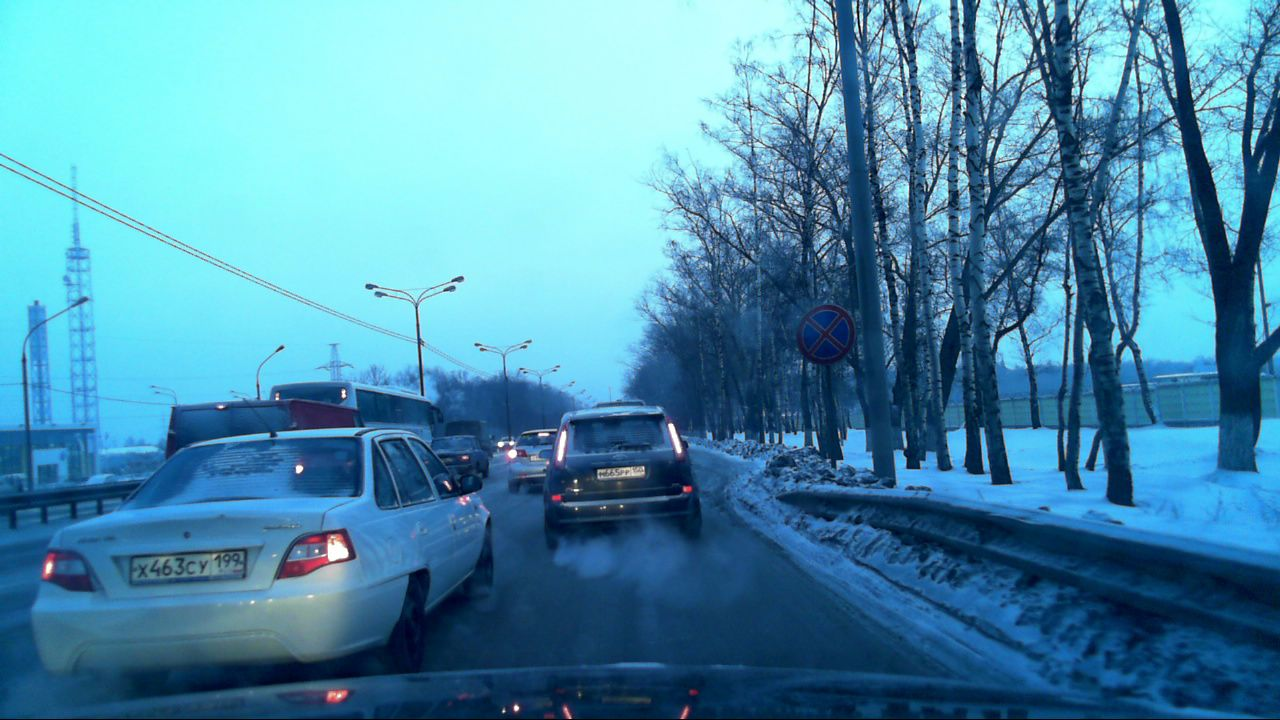No Parking: (795, 305, 853, 365)
